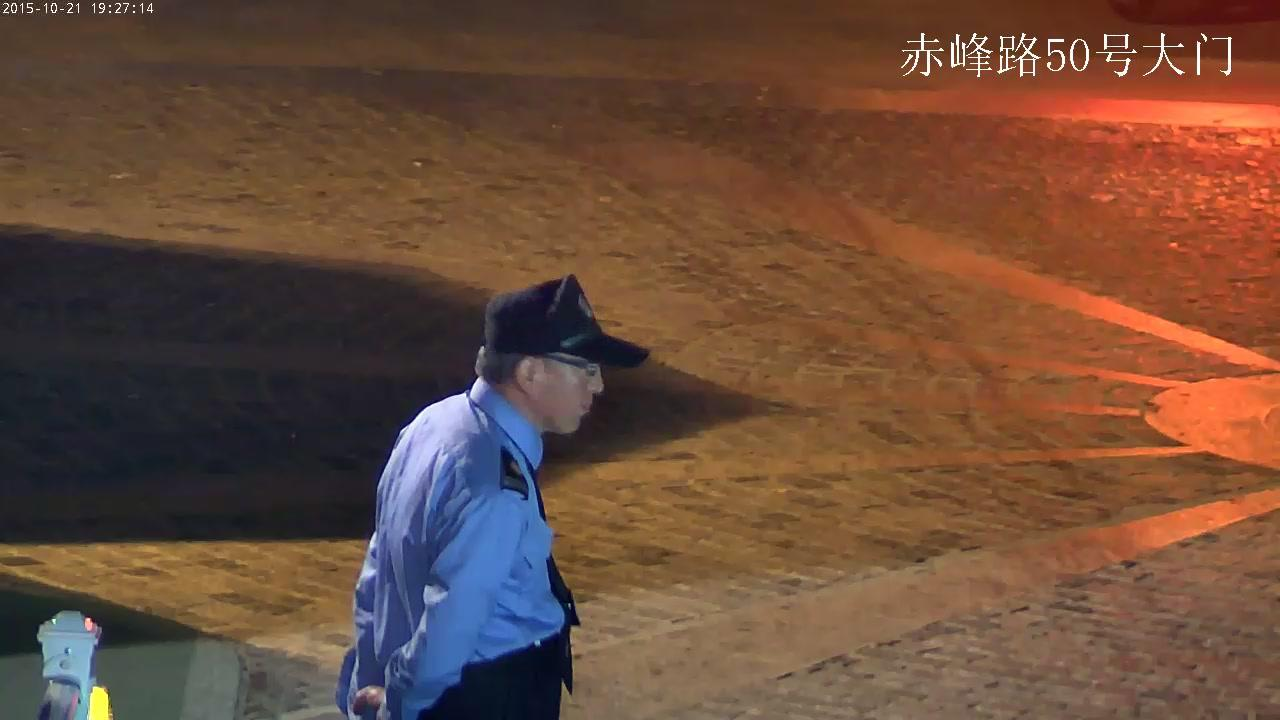face: (539, 350, 604, 433)
